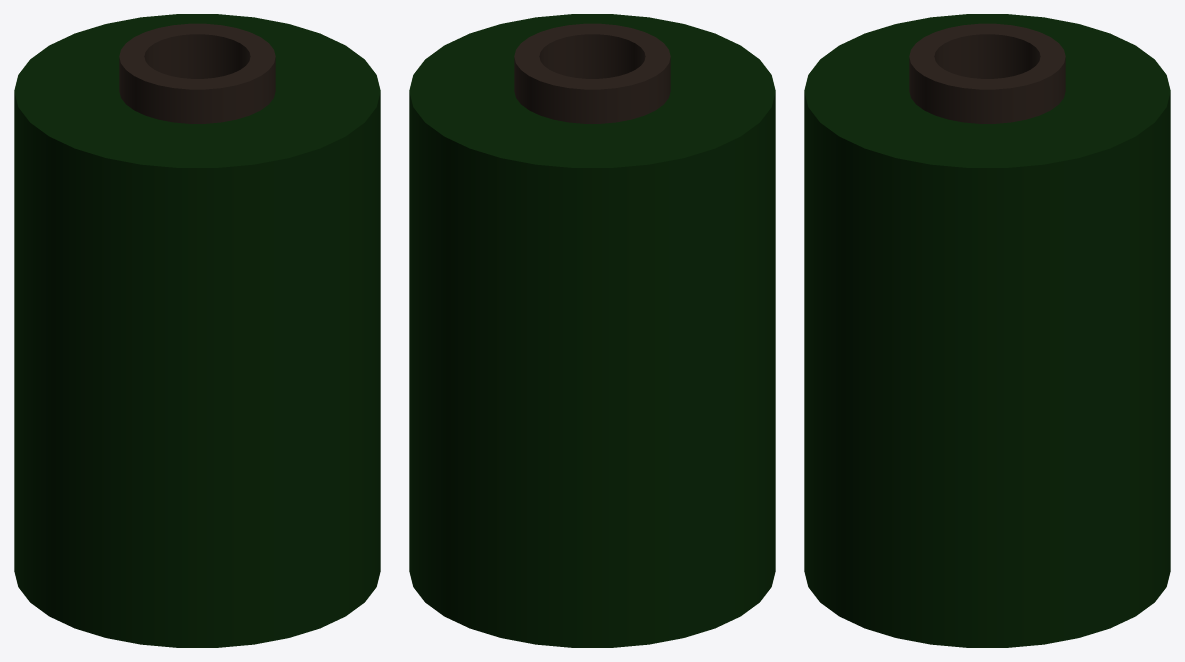
Rendered from F_GThread_01.fbx.
The picture shows the model from 3 angles, left to right: view 1: azimuth 30°, elevation 25°; view 2: azimuth 150°, elevation 25°; view 3: azimuth 270°, elevation 25°; orthographic projection.
Visible parts, largest first — view 1: F_GreenThread_01; view 2: F_GreenThread_01; view 3: F_GreenThread_01.
Part boxes in pixels (box(x1,y1,x2,y2)): F_GreenThread_01: box(14, 14, 380, 647); F_GreenThread_01: box(409, 14, 775, 647); F_GreenThread_01: box(804, 14, 1170, 647).
Bounding box in the file's own units: 8.07 × 13.41 × 8.12.
